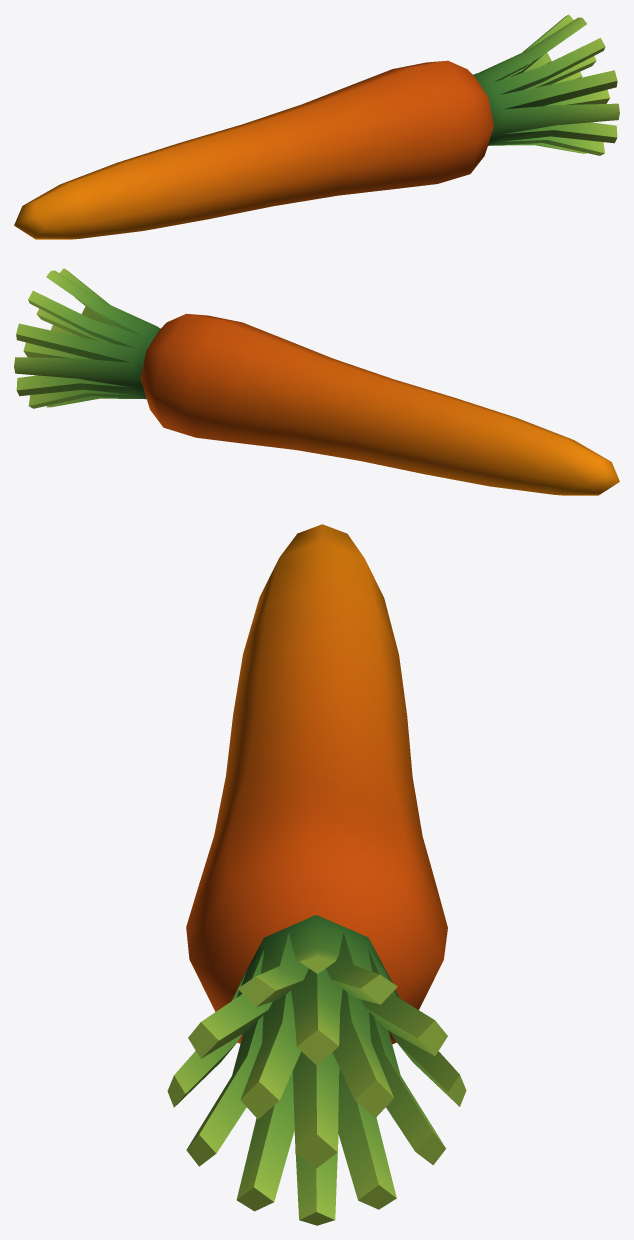
File: Carrot_01.glb
The picture shows the model from 3 angles, top to bottom: view 1: azimuth 30°, elevation 25°; view 2: azimuth 150°, elevation 25°; view 3: azimuth 270°, elevation 25°; orthographic projection. The views are drawn at different scales.
Visible parts, largest first — view 1: Carrot_01; view 2: Carrot_01; view 3: Carrot_01.
Part boxes in pixels (box(x1,y1,x2,y2)): Carrot_01: box(14, 14, 619, 239); Carrot_01: box(14, 268, 619, 495); Carrot_01: box(167, 524, 466, 1225).
Size of the model in its own units: 0.663 by 0.1488 by 0.1488.
Materials: 1 (1 with a texture image).
